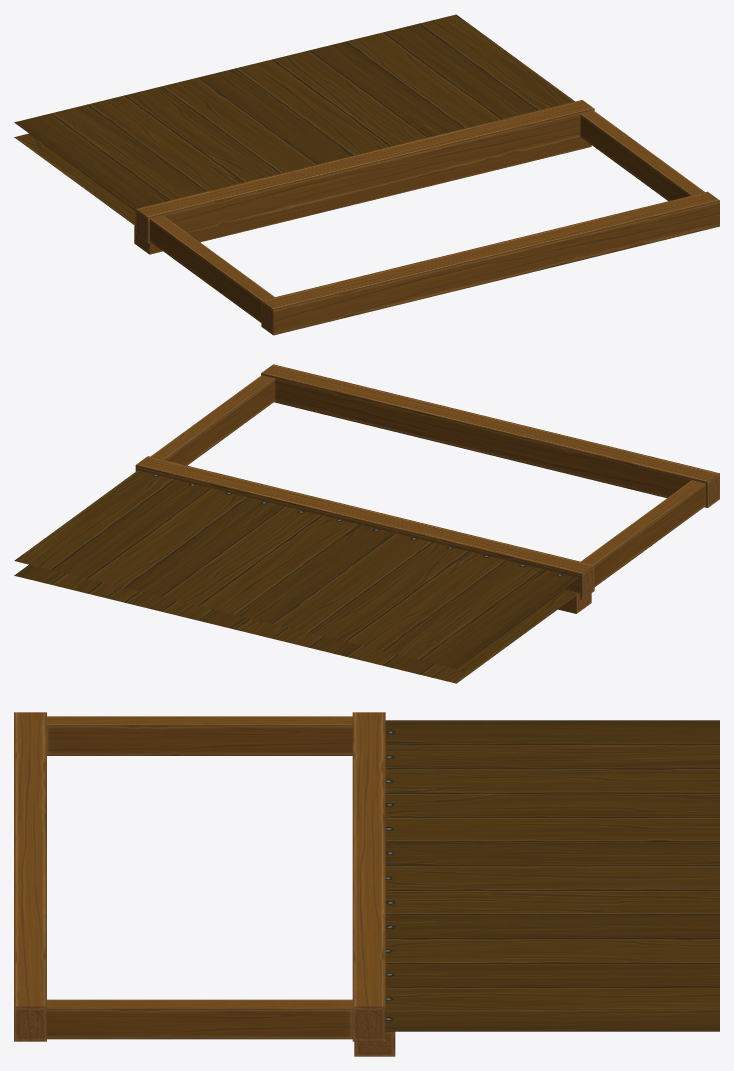
Rendered from SM_House_Floor_5x4_Hatch_03.fbx.
The picture shows the model from 3 angles, top to bottom: view 1: azimuth 30°, elevation 25°; view 2: azimuth 150°, elevation 25°; view 3: azimuth 270°, elevation 25°; orthographic projection. The views are drawn at different scales.
Parts seen in each view (by area): view 1: SM_House_Floor_5x4_Hatch_03; view 2: SM_House_Floor_5x4_Hatch_03; view 3: SM_House_Floor_5x4_Hatch_03.
Boxes of the visible parts, x1,y1,x2,y2 form: SM_House_Floor_5x4_Hatch_03: (14, 14, 719, 335); SM_House_Floor_5x4_Hatch_03: (14, 364, 719, 683); SM_House_Floor_5x4_Hatch_03: (14, 712, 719, 1056).
Size of the model in its own units: 5.05 by 0.411 by 5.13.
